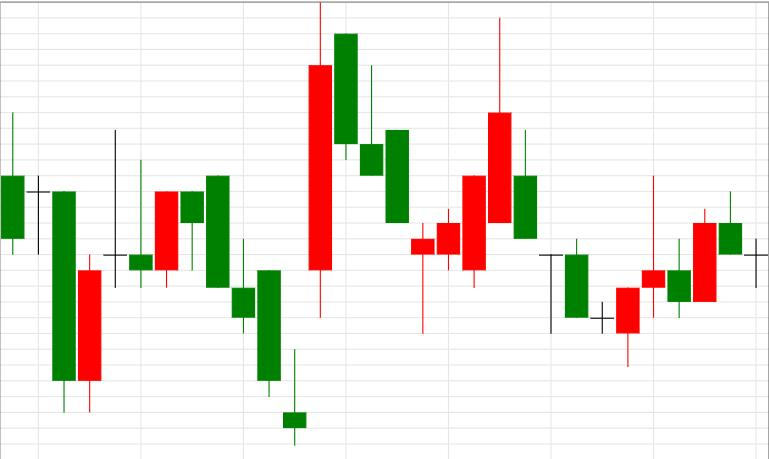morning_star_rise: (181, 4, 333, 445)
